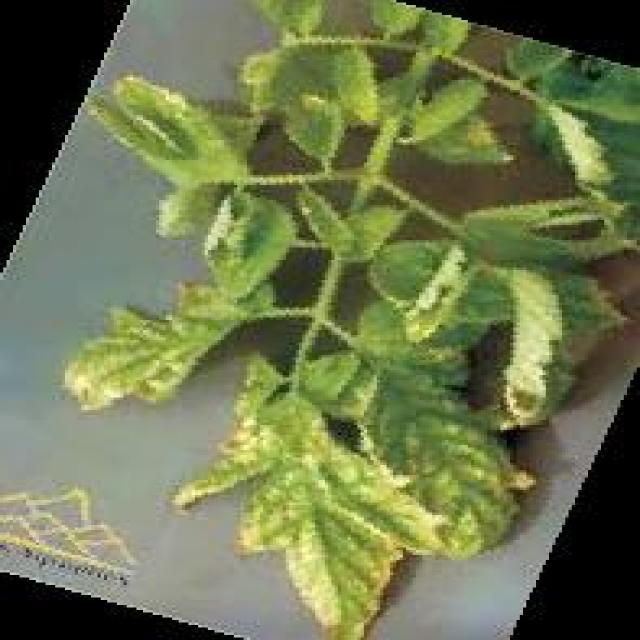Rust: (209, 374, 462, 634)
